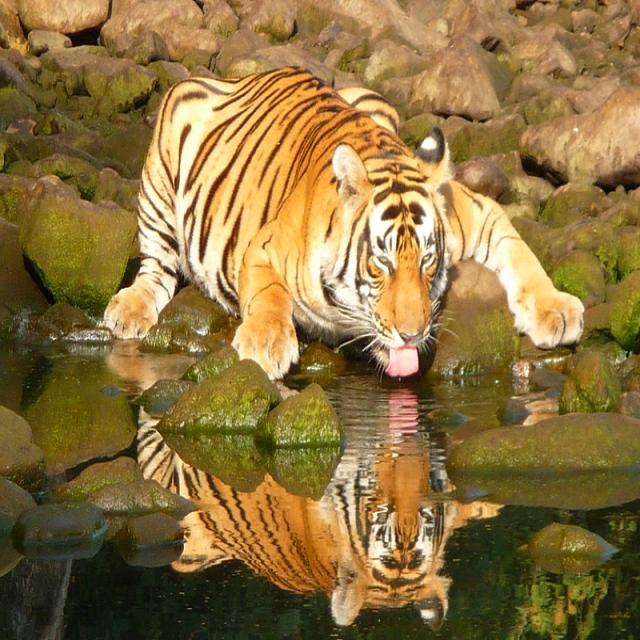Tiger: (106, 65, 584, 377)
